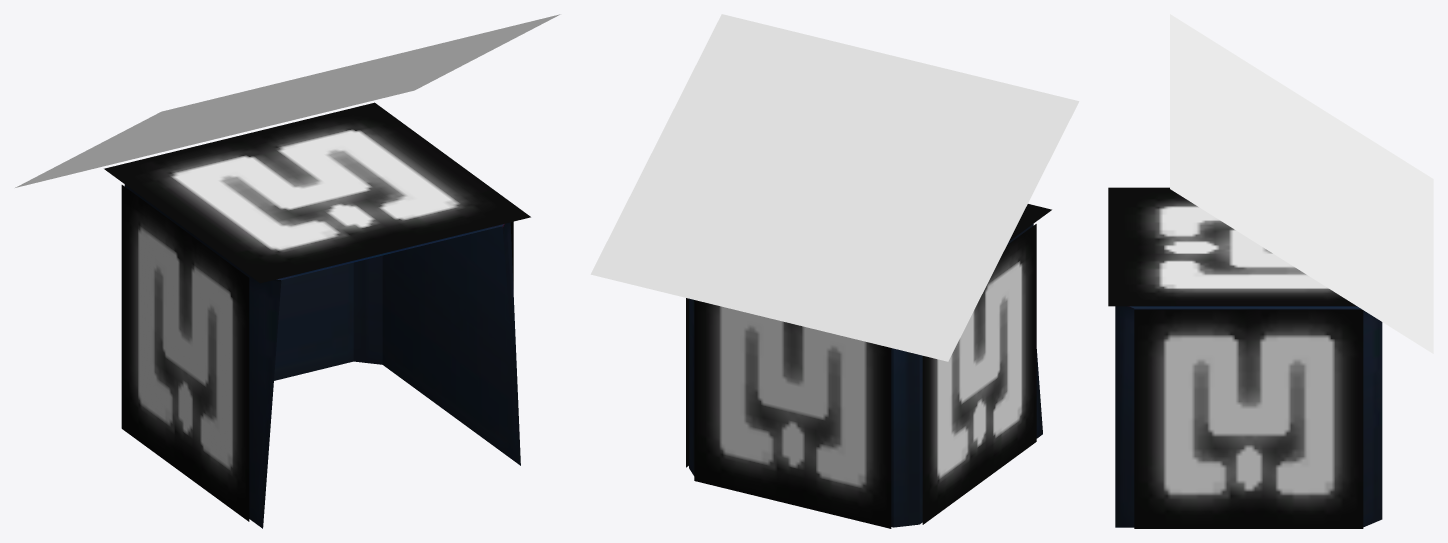
File: [gimmick]battlegate3.fbx
3 views of the same model, side by side, from view 1: azimuth 30°, elevation 25°; view 2: azimuth 150°, elevation 25°; view 3: azimuth 270°, elevation 25° (orthographic). The views are drawn at different scales.
Parts seen in each view (by area): view 1: ancient_glow_bg1, battlegate3, glow; view 2: glow, ancient_glow_bg1, battlegate3; view 3: ancient_glow_bg1, glow, battlegate3.
Part boxes in pixels (x1,y1,x2,y2): ancient_glow_bg1: [104, 102, 530, 521]; battlegate3: [124, 184, 520, 528]; glow: [15, 14, 560, 187]; glow: [590, 14, 1079, 361]; ancient_glow_bg1: [686, 204, 1051, 528]; battlegate3: [689, 224, 1042, 527]; ancient_glow_bg1: [1108, 187, 1363, 528]; glow: [1170, 14, 1433, 353]; battlegate3: [1115, 306, 1382, 527].
Size of the model in its own units: 1.32 by 1.3 by 1.04.
Materials: 3 (3 with a texture image).
